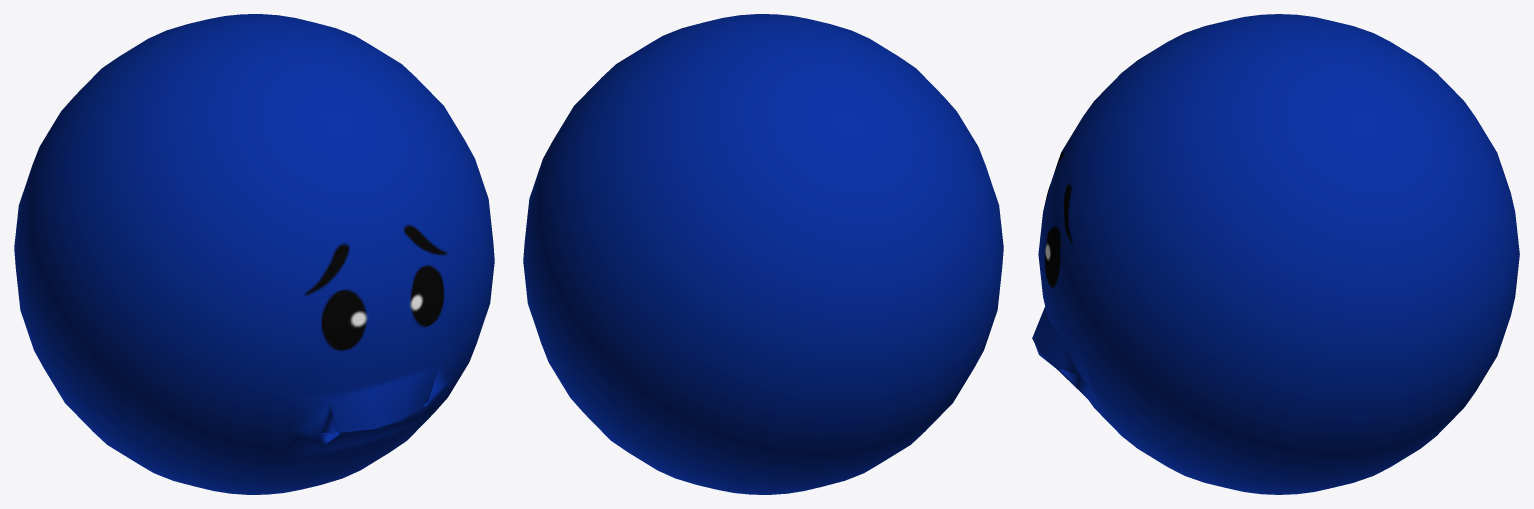
Rendered from test_triangle_bleu.FBX.
3 renders of one model, left to right at view 1: azimuth 30°, elevation 25°; view 2: azimuth 150°, elevation 25°; view 3: azimuth 270°, elevation 25°, orthographic.
Parts seen in each view (by area): view 1: Sphere002; view 2: Sphere002; view 3: Sphere002.
Boxes of the visible parts, x1,y1,x2,y2 form: Sphere002: (14,14,494,494); Sphere002: (523,14,1003,494); Sphere002: (1032,14,1519,494).
Bounding box in the file's own units: 37.95 × 37.95 × 38.45.
